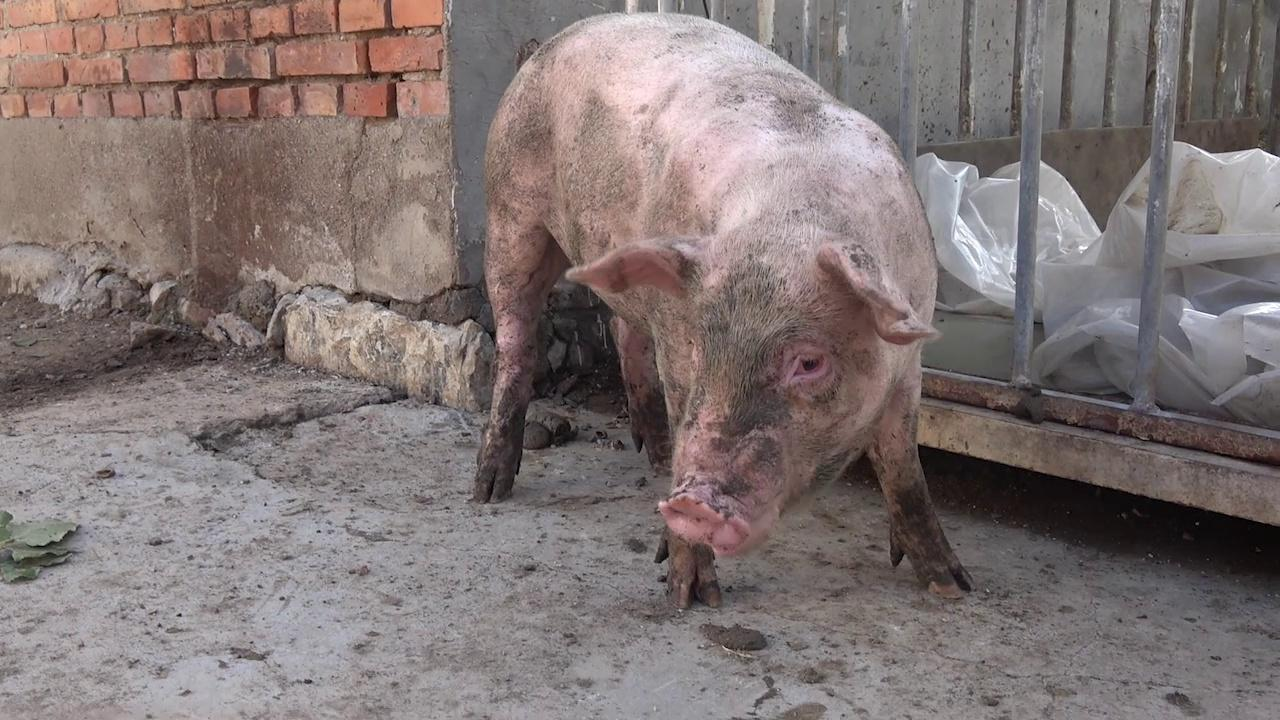Face: (547, 229, 945, 565)
